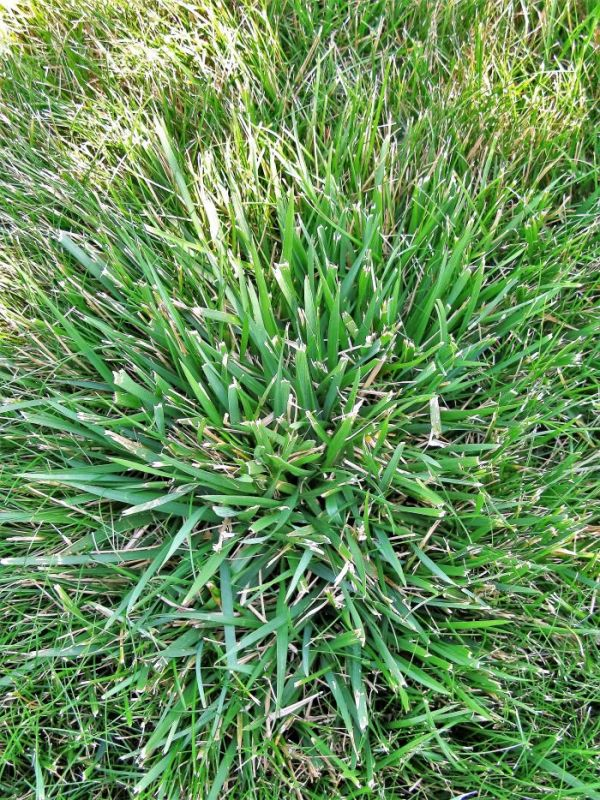crabgrass: (21, 163, 528, 667)
